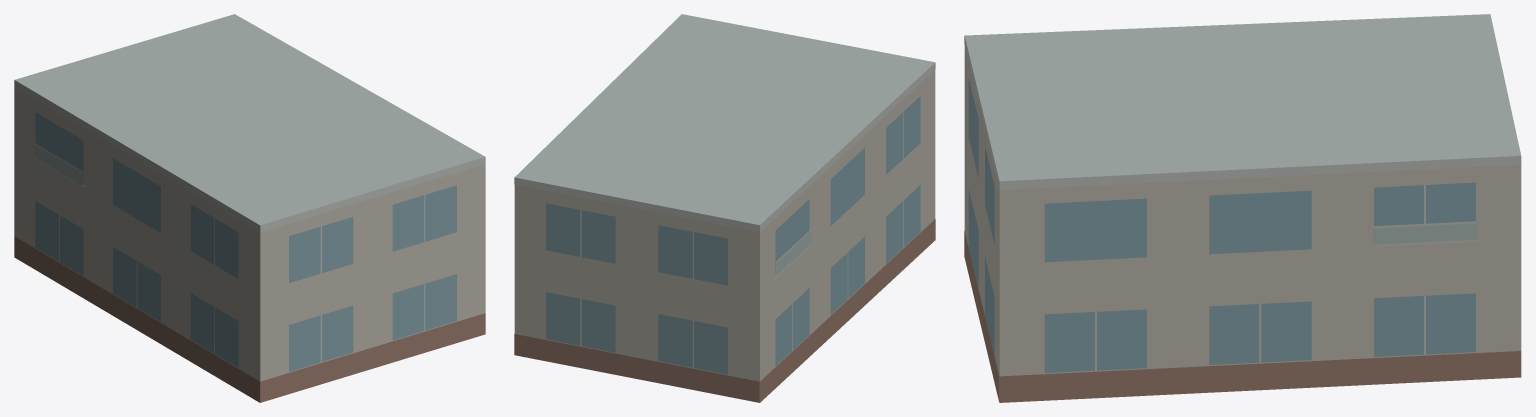
The model's file is survey-upis-32621802.glb.
3 views of the same model, side by side, from view 1: azimuth 30°, elevation 25°; view 2: azimuth 150°, elevation 25°; view 3: azimuth 270°, elevation 25° (orthographic). The views are drawn at different scales.
Parts seen in each view (by area): view 1: survey-upis-32621802.tmp; view 2: survey-upis-32621802.tmp; view 3: survey-upis-32621802.tmp.
Boxes of the visible parts, x1,y1,x2,y2 form: survey-upis-32621802.tmp: [14, 14, 485, 402]; survey-upis-32621802.tmp: [514, 14, 935, 402]; survey-upis-32621802.tmp: [964, 14, 1521, 402].
Size of the model in its own units: 9.89 by 6.1 by 13.9.
